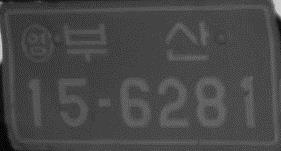-: (94, 95, 114, 110)
1: (237, 71, 261, 131), (24, 76, 48, 129)
2: (156, 77, 190, 129)
5: (55, 74, 90, 129)
6: (118, 74, 152, 130)
8: (194, 74, 229, 130)
부산_D: (60, 19, 212, 65)
영: (20, 22, 56, 64)
